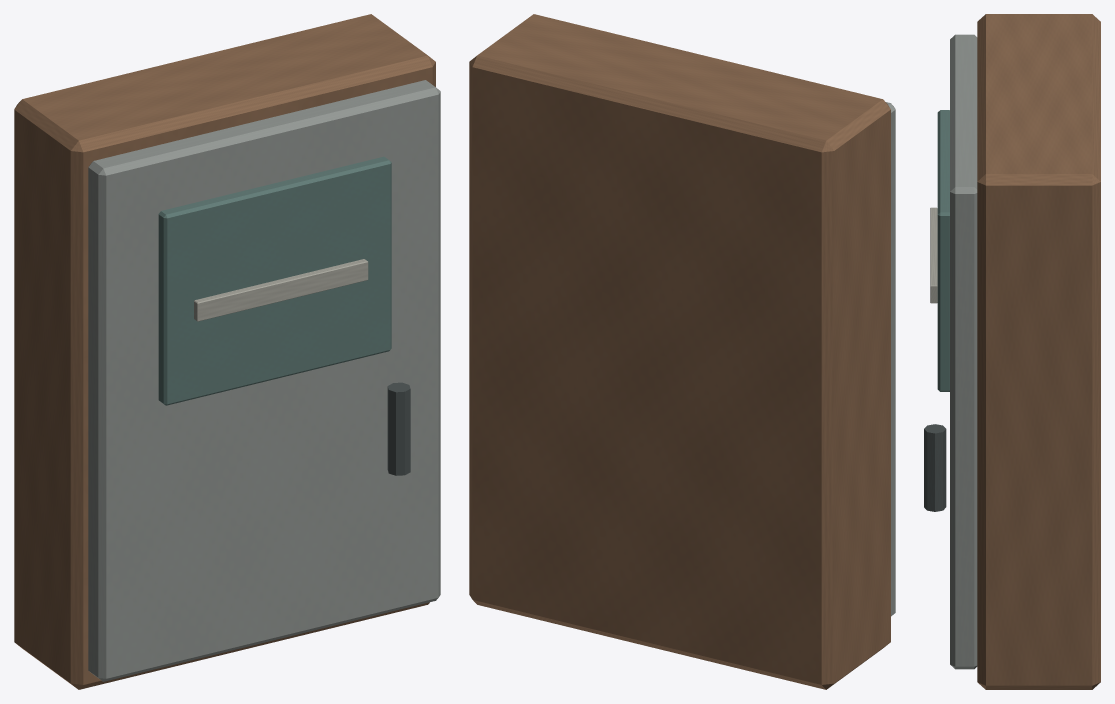
File: D_Utility_Meter_visual.glb
3 views of the same model, side by side, from view 1: azimuth 30°, elevation 25°; view 2: azimuth 150°, elevation 25°; view 3: azimuth 270°, elevation 25° (orthographic). The views are drawn at different scales.
Visible parts, largest first — view 1: D_Utility_Meter__VIS; view 2: D_Utility_Meter__VIS; view 3: D_Utility_Meter__VIS.
Part boxes in pixels (x1,y1,x2,y2): D_Utility_Meter__VIS: (14,14,440,689); D_Utility_Meter__VIS: (469,14,895,689); D_Utility_Meter__VIS: (924,14,1100,689).
Size of the model in its own units: 1.6 by 2.3 by 0.715.
Materials: 1 (1 with a texture image).
